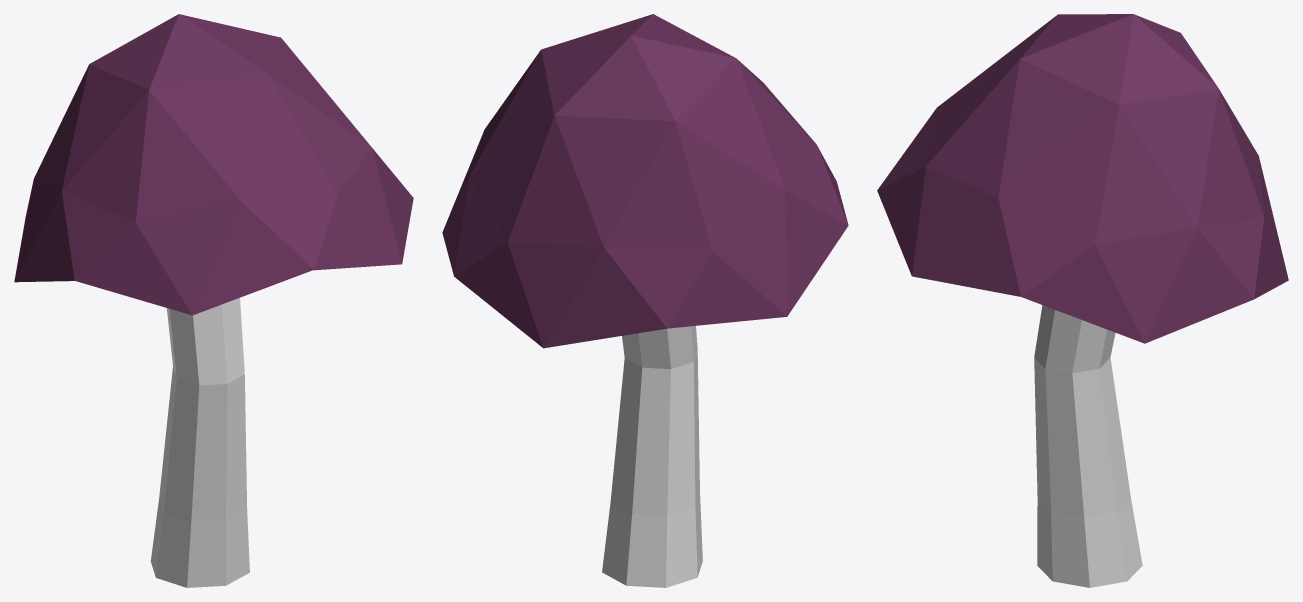
The model's file is BigShroom.fbx.
3 renders of one model, left to right at view 1: azimuth 30°, elevation 25°; view 2: azimuth 150°, elevation 25°; view 3: azimuth 270°, elevation 25°, orthographic. The views are drawn at different scales.
Parts seen in each view (by area): view 1: Big_Shroom; view 2: Big_Shroom; view 3: Big_Shroom.
Boxes of the visible parts, left/top/right/bottom form: Big_Shroom: left=14, top=14, right=413, bottom=587; Big_Shroom: left=442, top=14, right=848, bottom=587; Big_Shroom: left=877, top=14, right=1288, bottom=587.
Size of the model in its own units: 199 by 302 by 204.
